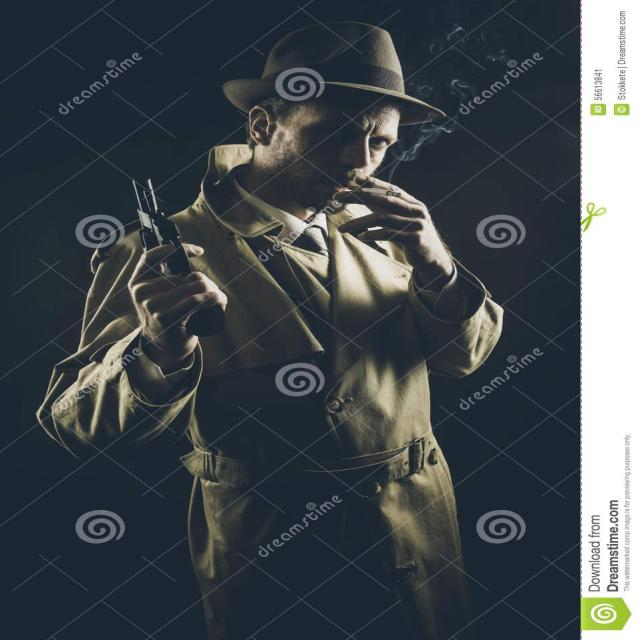cigarette: (333, 178, 412, 207)
